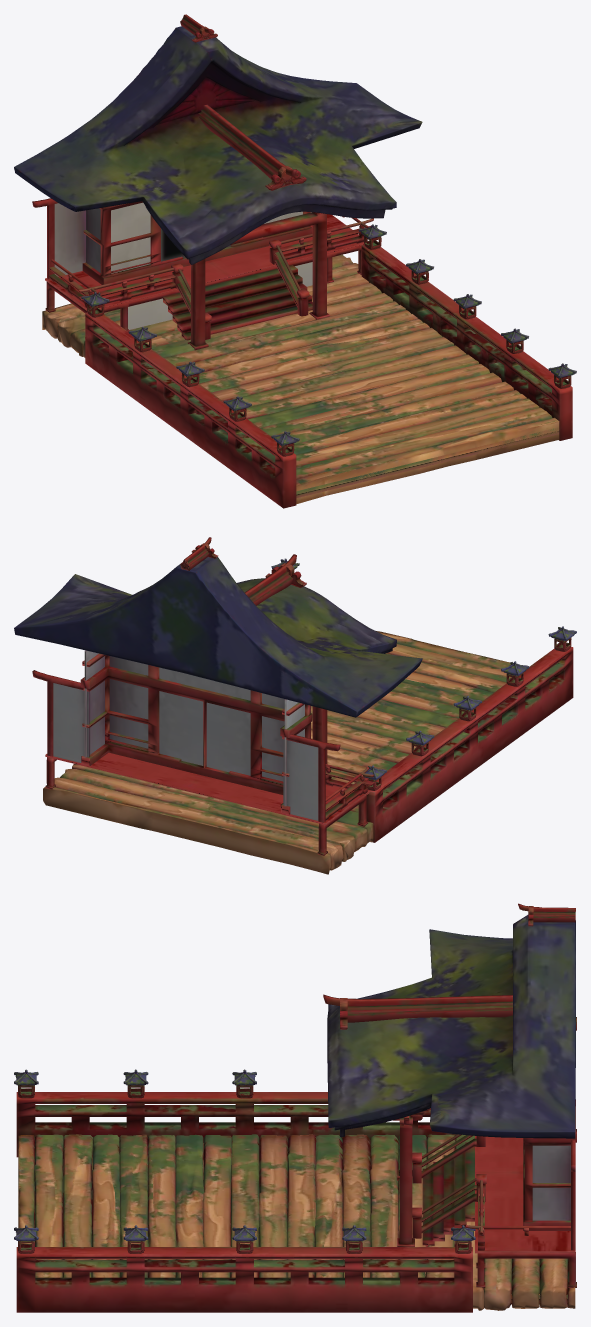
Rendered from NinjaMap.glb.
3 views of the same model, one above another, from view 1: azimuth 30°, elevation 25°; view 2: azimuth 150°, elevation 25°; view 3: azimuth 270°, elevation 25° (orthographic). The views are drawn at different scales.
Visible parts, largest first — view 1: Pont_Asiatique_Scene_Retopo, Asie_Pont; view 2: Pont_Asiatique_Scene_Retopo, Asie_Pont; view 3: Asie_Pont, Pont_Asiatique_Scene_Retopo.
Part boxes in pixels (x1,y1,x2,y2): Pont_Asiatique_Scene_Retopo: [14, 14, 422, 350]; Asie_Pont: [42, 224, 576, 508]; Pont_Asiatique_Scene_Retopo: [14, 537, 422, 855]; Asie_Pont: [43, 558, 576, 874]; Asie_Pont: [14, 1069, 575, 1312]; Pont_Asiatique_Scene_Retopo: [323, 903, 576, 1288].
Bounding box in the file's own units: 2.01 × 1.57 × 2.45.
Materials: 2 (2 with a texture image).
